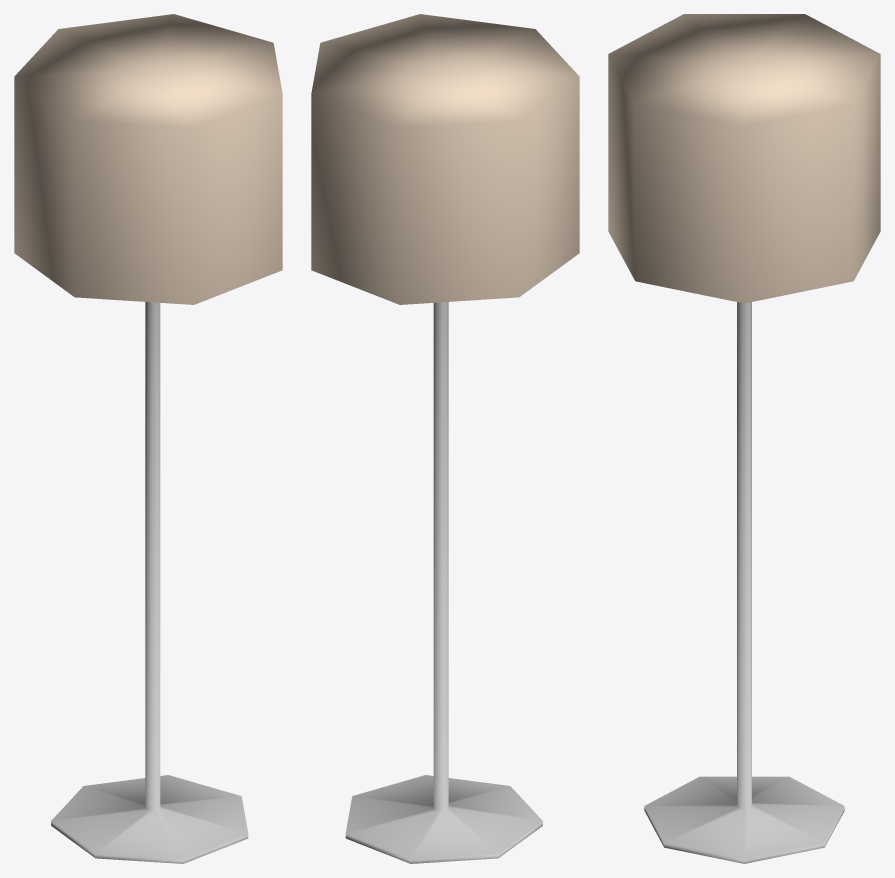
Rendered from torchereA.fbx.
3 views of the same model, side by side, from view 1: azimuth 30°, elevation 25°; view 2: azimuth 150°, elevation 25°; view 3: azimuth 270°, elevation 25° (orthographic).
Parts seen in each view (by area): view 1: torchereA; view 2: torchereA; view 3: torchereA.
Boxes of the visible parts, box(x1,y1,x2,y2) form: torchereA: box(14, 14, 282, 863); torchereA: box(311, 14, 579, 863); torchereA: box(608, 14, 880, 863).
Size of the model in its own units: 0.3132 by 0.9804 by 0.3212.
